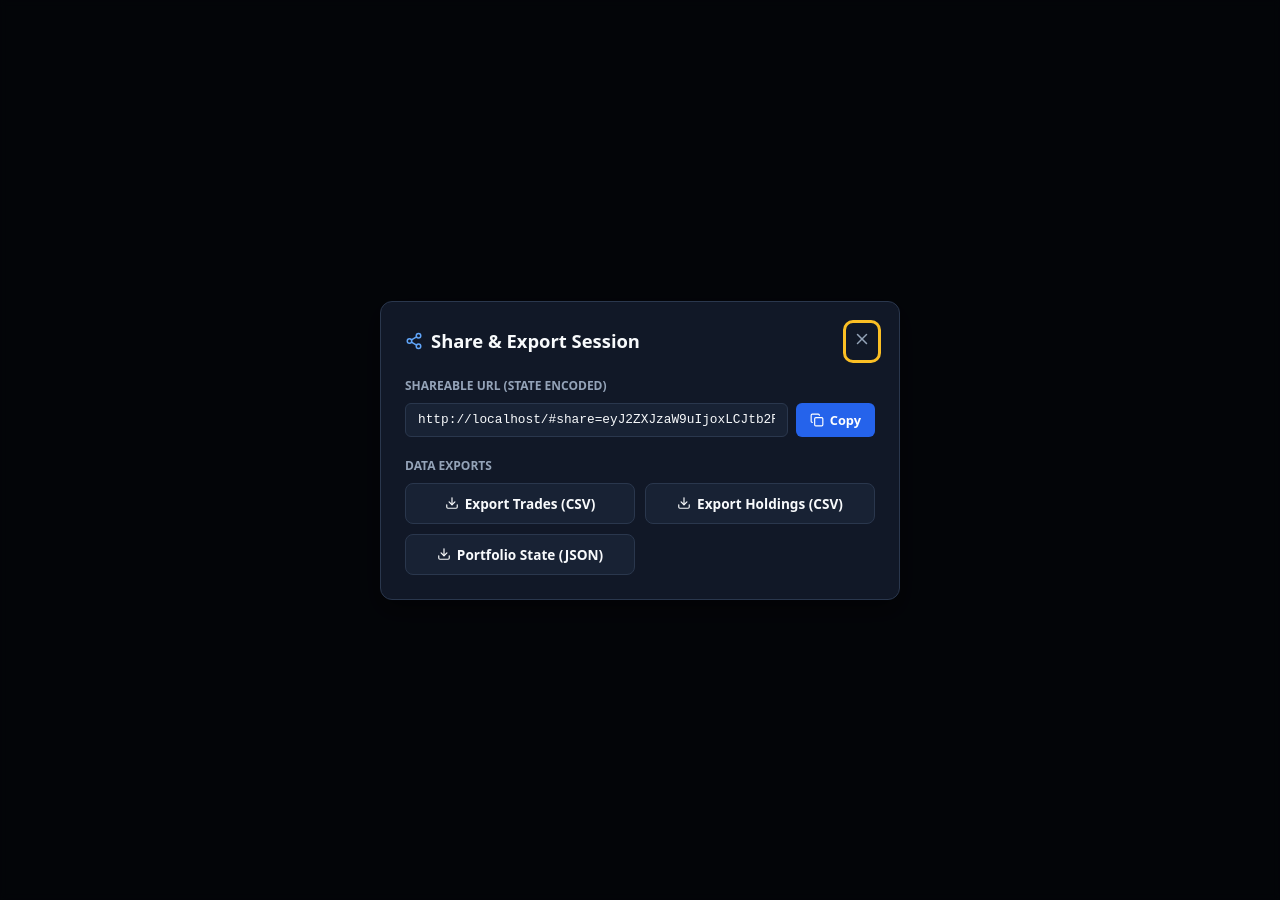
Scenario: clipboard and crash recovery › shows copy success only after the clipboard promise resolves
What coordinates should you click on to do the following:
click the button "Copy"
I would click on:
 (835, 420)
Its box is [796,402,875,436].
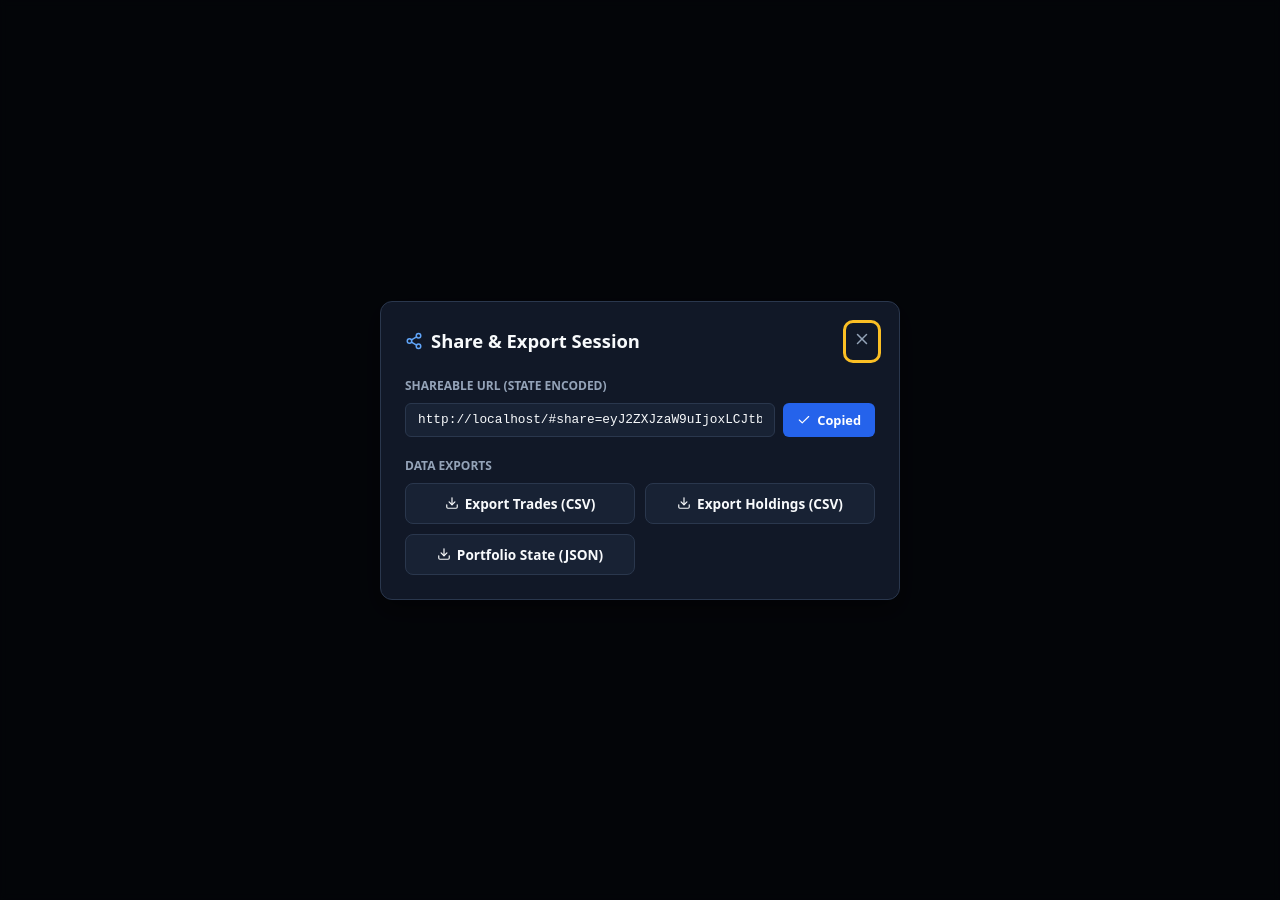
Check: the text "Copied" is shown, box [817,410,861,428]
